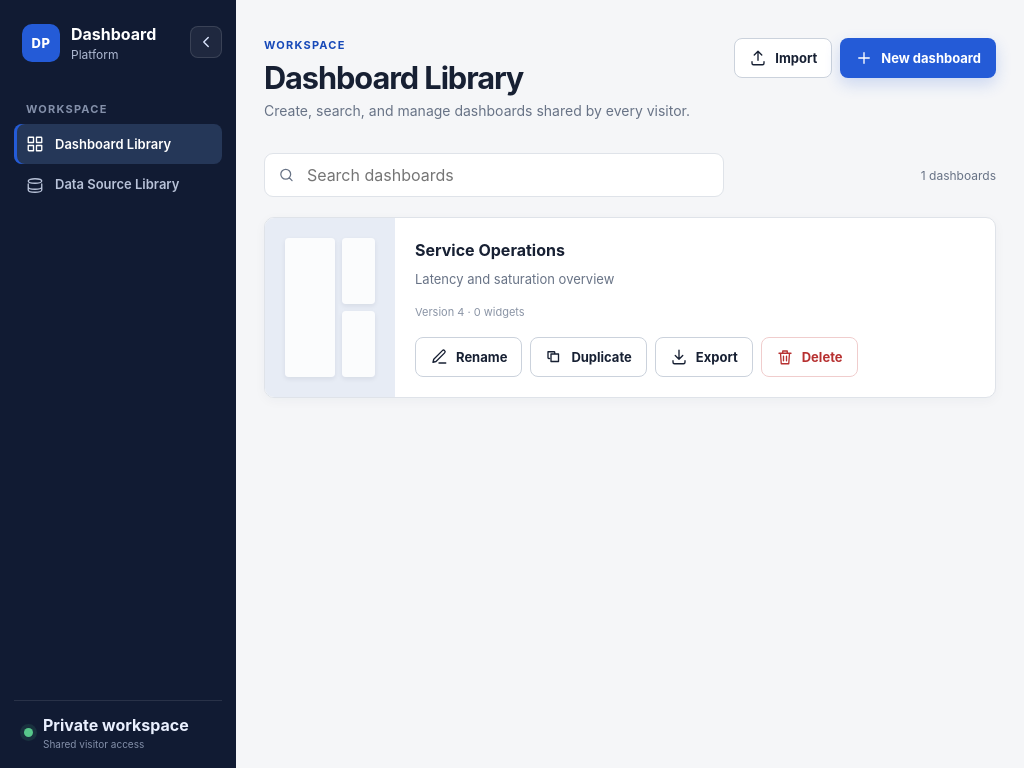
Scenario: DashboardLibrary › requires explicit delete confirmation before issuing DELETE and removes the dashboard after a 204 response
expect the heading "Service Operations" is shown: met, box [415, 240, 565, 260]
What coordinates should you click on to do the following:
click the button "Delete"
I would click on:
 (809, 357)
Its box is [761, 337, 858, 377].
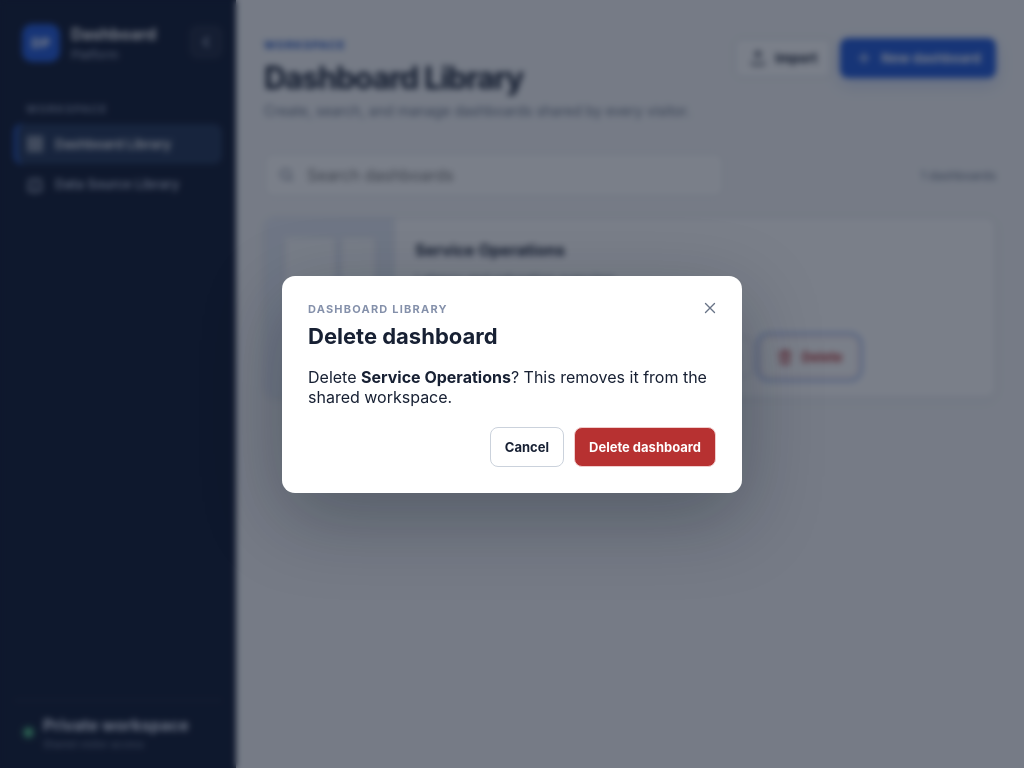
expect the text "Service Operations" is shown: met, box [361, 366, 511, 386]
What coordinates should you click on to do the following:
click the button "Cancel"
I would click on:
 (527, 446)
Its box is [490, 426, 564, 466].
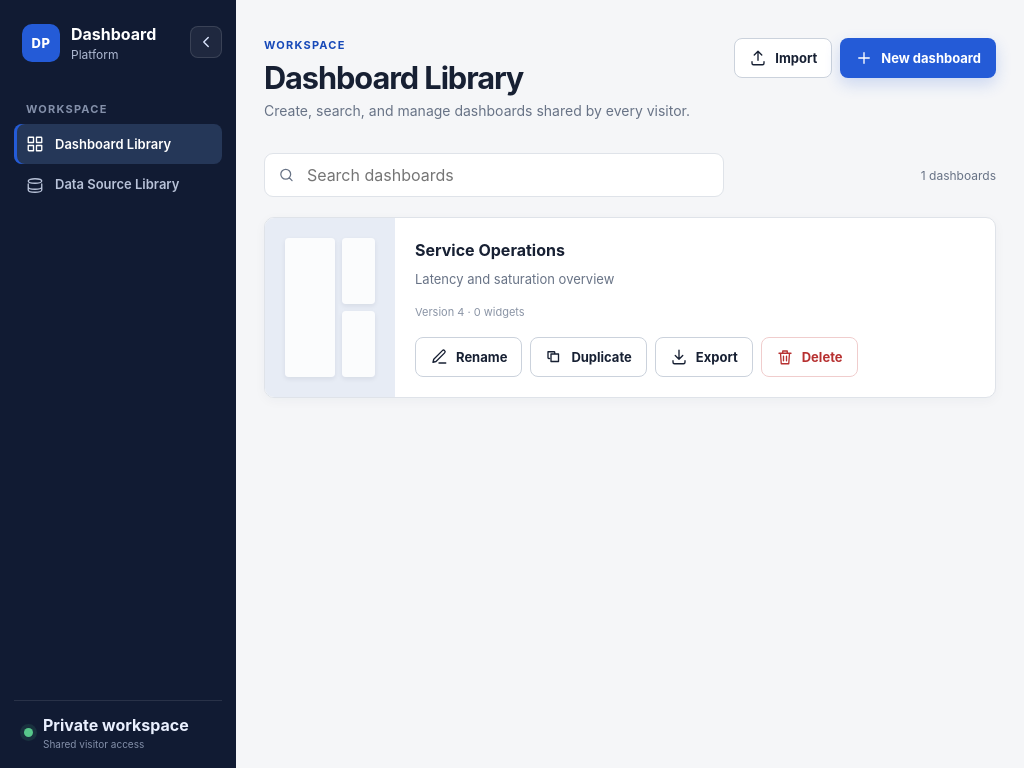
expect the heading "Service Operations" is shown: met, box [415, 240, 565, 260]
What coordinates should you click on to do the following:
click the button "Delete"
I would click on:
 (809, 357)
Its box is [761, 337, 858, 377].
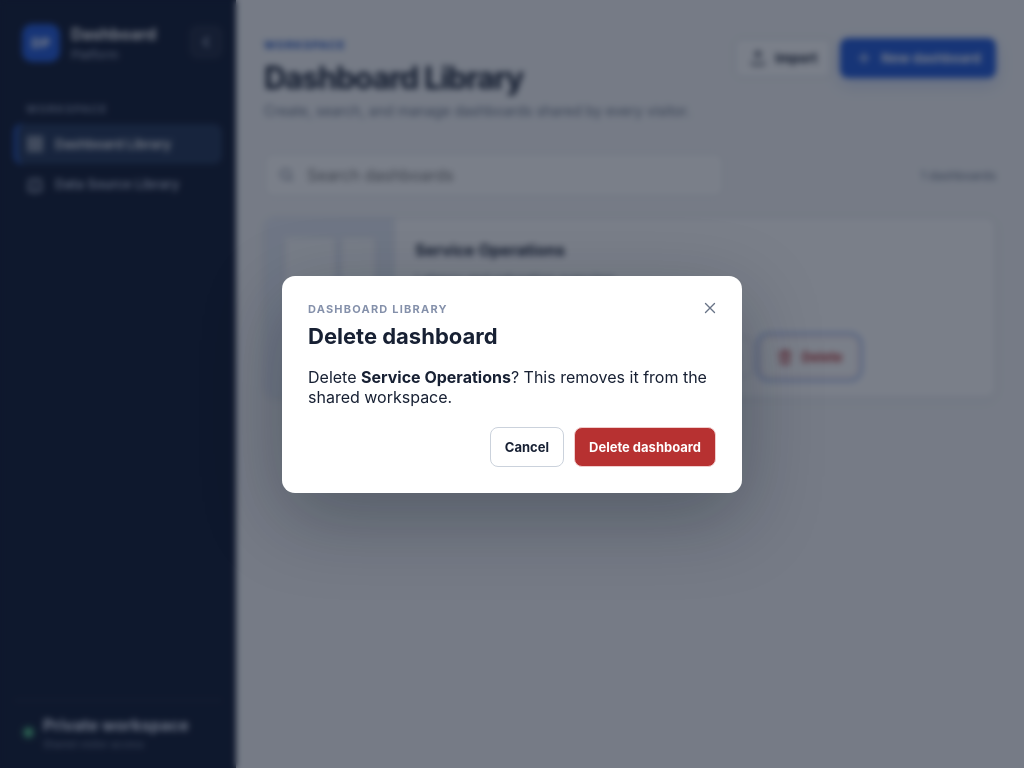
What coordinates should you click on to do the following:
click the button "Delete dashboard"
I would click on:
 (645, 446)
Its box is [574, 426, 716, 466].
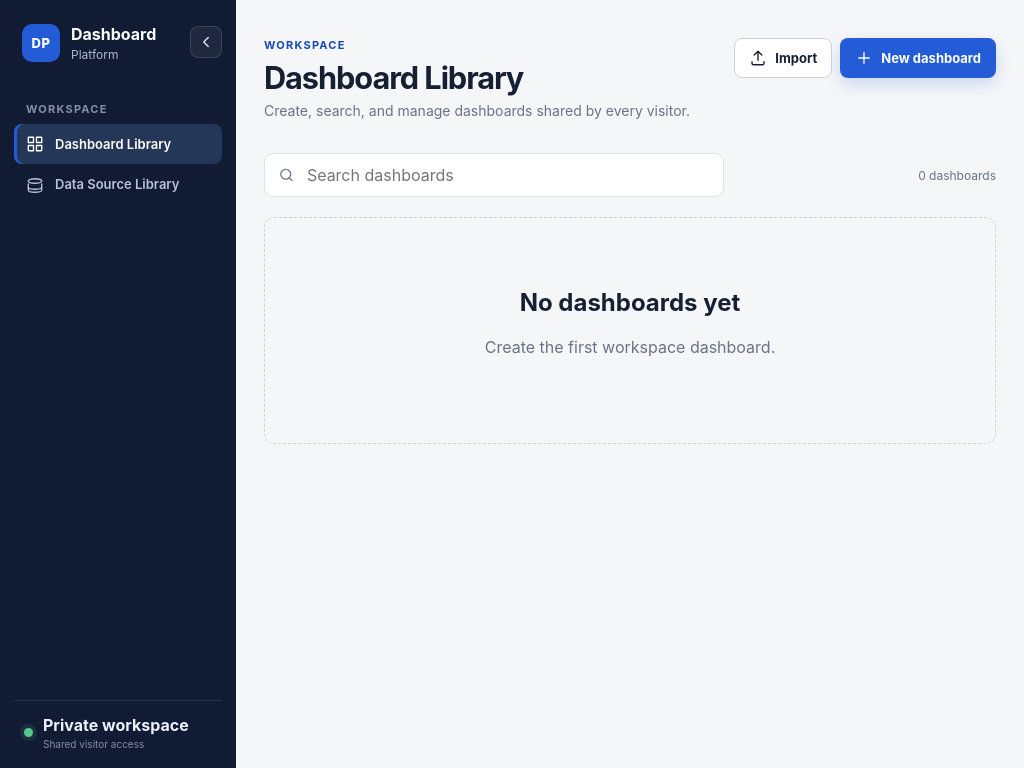
expect the button "Service Operations" is gone: met
